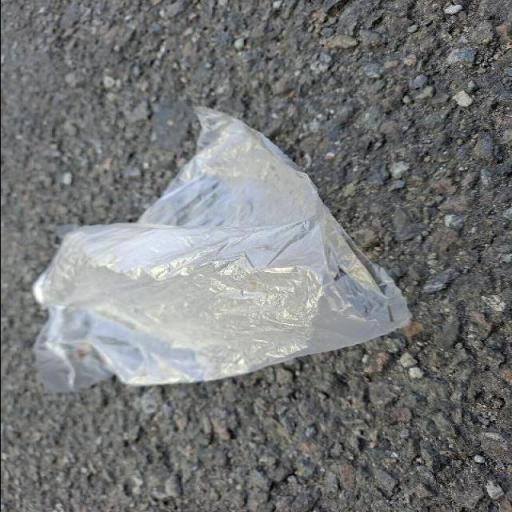plastic-bag: (31, 104, 412, 394)
